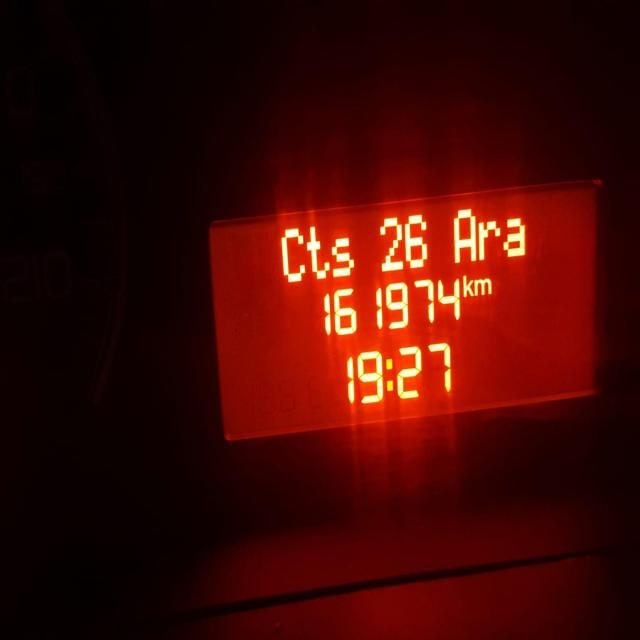odometer: (207, 173, 601, 446)
